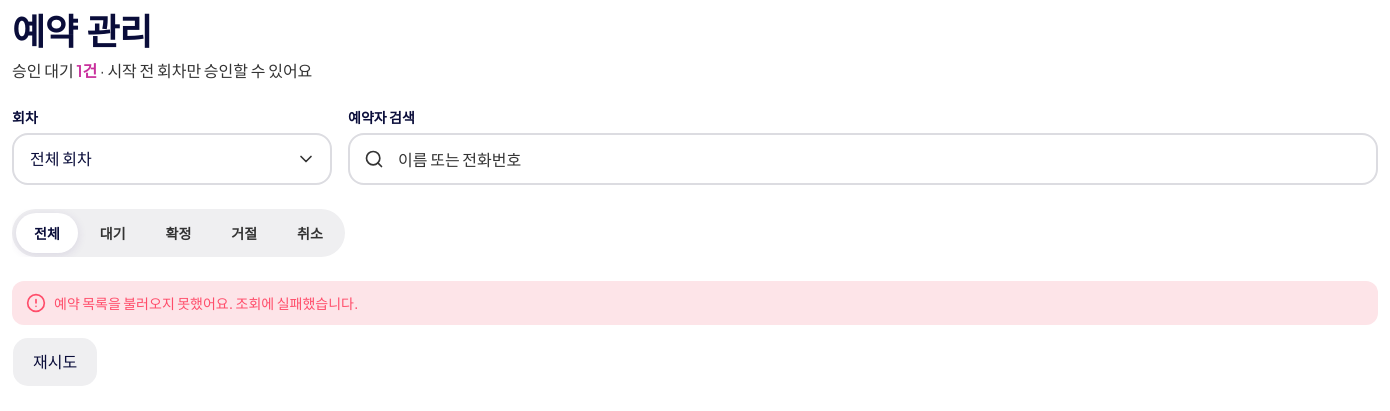
Test case: AdminBookingList 조회 › 조회 실패 시 재시도 버튼으로 다시 요청한다
This screenshot has width=1390, height=411.
Check: the message reads "예약 목록을 불러오지 못했어요. 조회에 실패했습니다.", box [12,281,1378,325]
Click the button "재시도" at x=55, y=362, box [12,337,98,387]
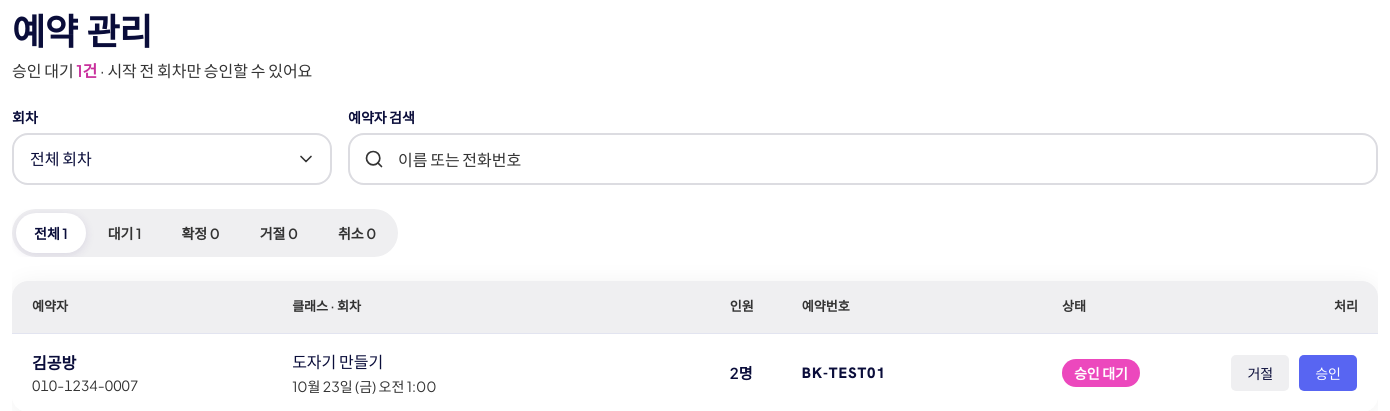
Check: the text "김공방" is shown, box [32,352,76,373]
